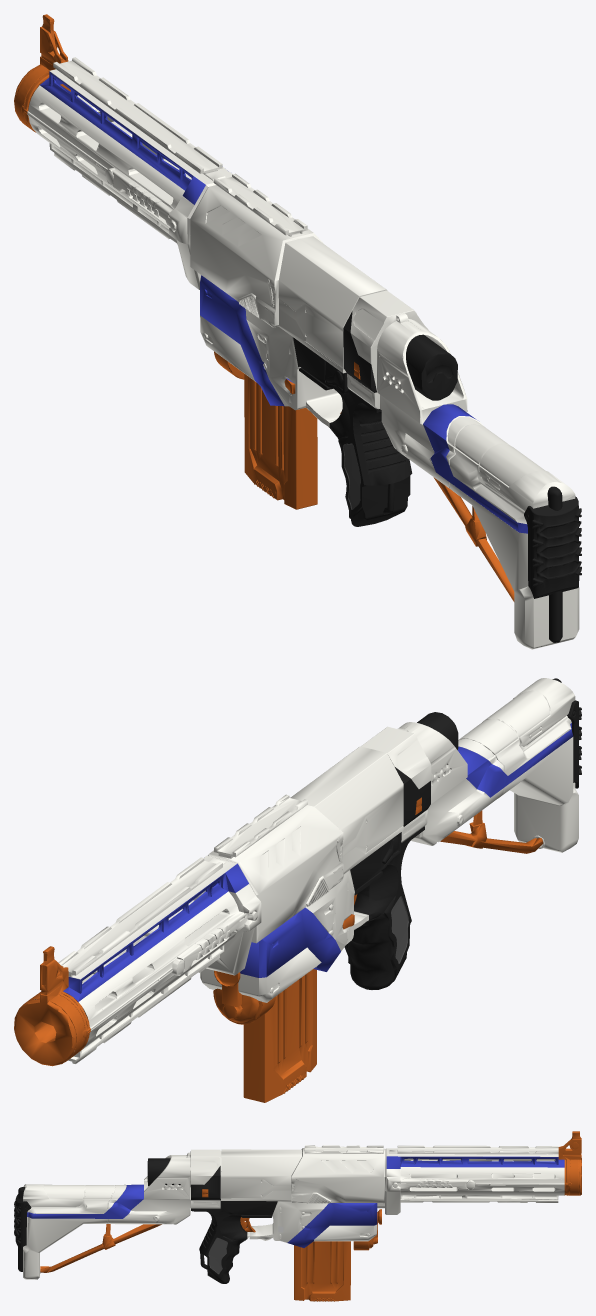
File: vanguard.glb
3 views of the same model, one above another, from view 1: azimuth 30°, elevation 25°; view 2: azimuth 150°, elevation 25°; view 3: azimuth 270°, elevation 25° (orthographic). The views are drawn at different scales.
Visible parts, largest first — view 1: Object_20, Object_19, Object_22, Object_9, Object_21, Object_11, Object_8, Object_7, Object_6, Object_5, Object_13, Object_12 (+1 smaller); view 2: Object_20, Object_19, Object_22, Object_9, Object_21, Object_11, Object_8, Object_13, Object_10, Object_4, Object_12, Object_6 (+2 smaller); view 3: Object_20, Object_19, Object_22, Object_9, Object_21, Object_11, Object_8, Object_12, Object_6, Object_7, Object_4, Object_15 (+4 smaller).
Part boxes in pixels (x1,y1,x2,y2): Object_20: (190, 173, 387, 425); Object_19: (27, 57, 232, 289); Object_22: (347, 290, 579, 649); Object_9: (40, 71, 527, 533); Object_21: (200, 315, 575, 523); Object_11: (244, 374, 317, 509); Object_8: (293, 311, 410, 526); Object_7: (524, 496, 581, 598); Object_6: (326, 334, 562, 642); Object_5: (353, 402, 412, 485); Object_13: (14, 26, 70, 132); Object_12: (433, 477, 514, 601); Object_20: (208, 746, 403, 951); Object_19: (34, 855, 261, 1063); Object_22: (361, 722, 578, 852); Object_9: (63, 723, 573, 1001); Object_21: (200, 678, 575, 1002); Object_11: (243, 969, 316, 1102); Object_8: (344, 767, 430, 989); Object_13: (14, 959, 89, 1066); Object_10: (42, 894, 357, 1079); Object_4: (354, 864, 398, 922); Object_12: (440, 810, 543, 853); Object_6: (382, 678, 561, 863); Object_20: (221, 1145, 385, 1242); Object_19: (386, 1145, 564, 1214); Object_22: (23, 1149, 220, 1279); Object_9: (27, 1156, 564, 1247); Object_21: (23, 1184, 377, 1241); Object_11: (294, 1241, 350, 1301); Object_8: (190, 1166, 277, 1283); Object_12: (40, 1224, 161, 1272); Object_6: (18, 1158, 207, 1271); Object_7: (14, 1194, 31, 1250); Object_4: (220, 1215, 271, 1241); Object_15: (558, 1139, 581, 1194).
Size of the model in its own units: 67.6 by 234 by 727.
